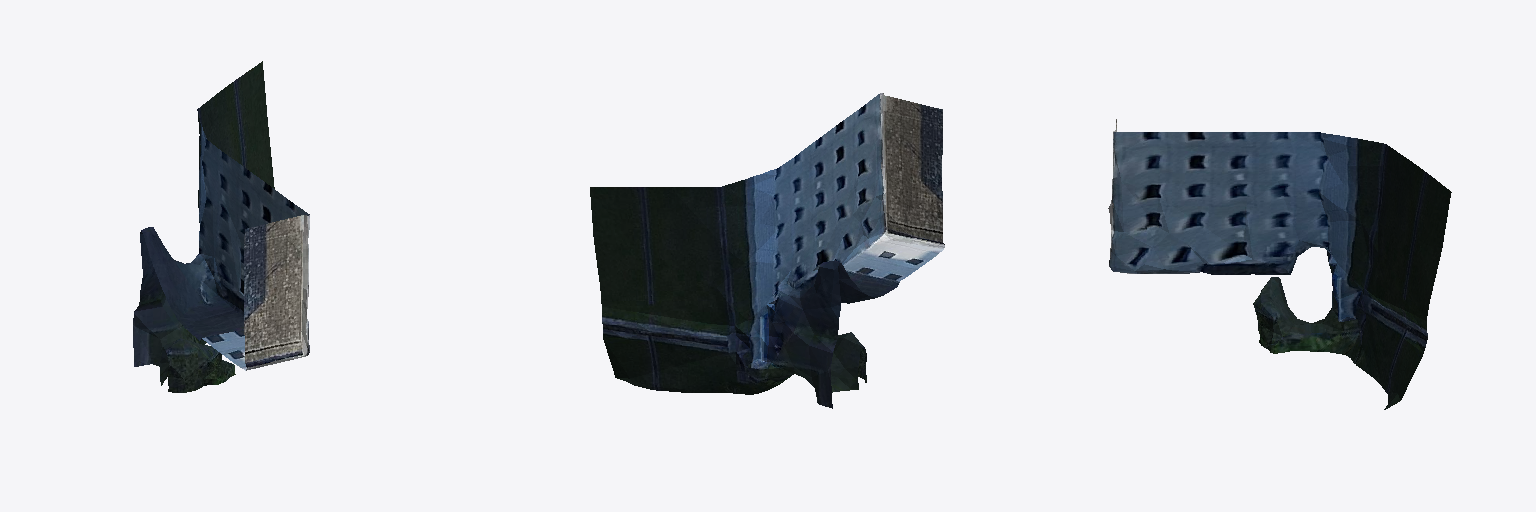
3 renders of one model, left to right at view 1: azimuth 30°, elevation 25°; view 2: azimuth 150°, elevation 25°; view 3: azimuth 270°, elevation 25°, orthographic.
Visible parts, largest first — view 1: obj_0; view 2: obj_0; view 3: obj_0.
Part boxes in pixels (left/top/right/bottom): obj_0: left=133, top=61, right=309, bottom=392; obj_0: left=590, top=93, right=944, bottom=408; obj_0: left=1108, top=119, right=1451, bottom=409.
Bounding box in the file's own units: 20.08 × 22.53 × 32.04.
Materials: 1 (1 with a texture image).